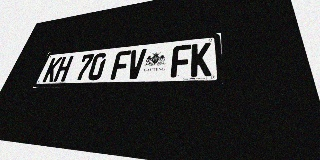0: (87, 52, 108, 81)
7: (74, 54, 95, 81)
F: (170, 44, 191, 77), (110, 50, 131, 80)
H: (53, 56, 74, 82)
K: (190, 42, 211, 77), (42, 57, 63, 82)
V: (126, 49, 147, 79)
